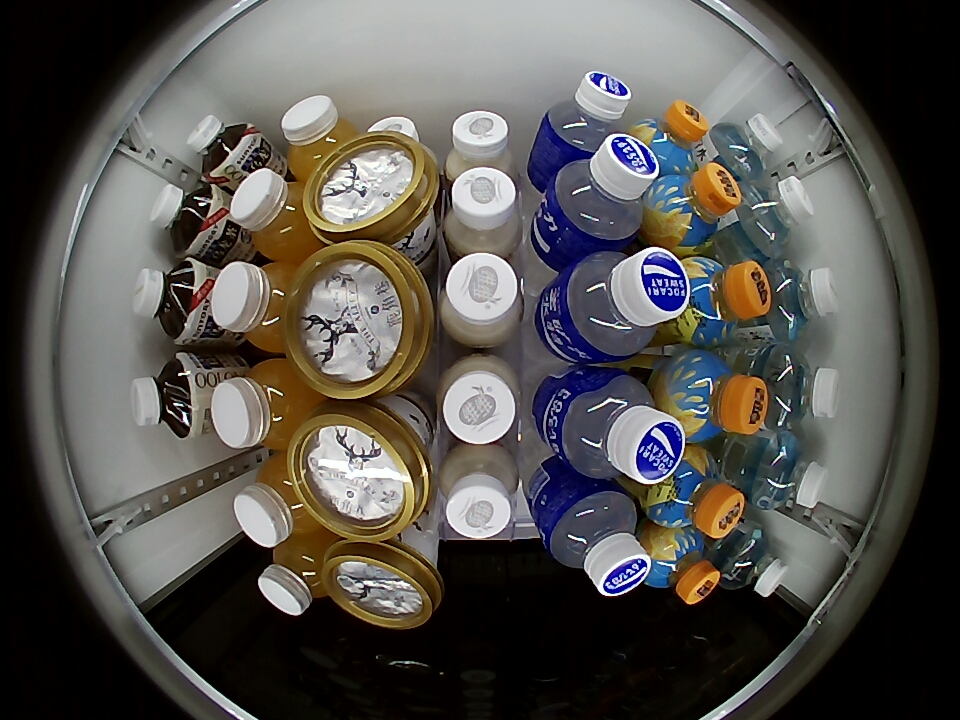baokuangli: (553, 247, 691, 363), (550, 369, 684, 485), (544, 134, 658, 249), (541, 483, 650, 597), (539, 71, 631, 161)
guolicheng: (658, 349, 769, 441), (643, 446, 746, 538), (670, 256, 772, 347), (644, 164, 741, 252), (640, 525, 719, 604), (628, 100, 708, 178)
lujiaoxiang: (285, 242, 433, 400), (288, 402, 433, 541), (304, 131, 439, 245), (322, 538, 444, 629)
qinningshui: (759, 345, 841, 430), (760, 259, 840, 341), (735, 175, 814, 255), (750, 434, 827, 512), (716, 526, 789, 598), (708, 113, 783, 182)
weic: (211, 359, 321, 450), (234, 454, 324, 547), (211, 260, 301, 353), (228, 169, 320, 259), (280, 95, 360, 174), (258, 536, 332, 616)
weiweidounai: (440, 251, 525, 348), (438, 442, 520, 540), (437, 354, 521, 446), (443, 166, 523, 258), (445, 110, 516, 183), (369, 117, 436, 158)
wulongcha: (132, 259, 212, 344), (129, 353, 207, 439), (149, 182, 223, 255), (187, 115, 263, 184)
